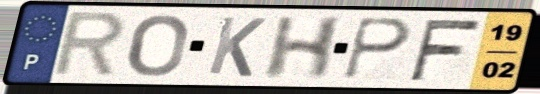F: (406, 17, 485, 82)
H: (260, 15, 348, 82)
K: (204, 14, 269, 79)
O: (125, 12, 190, 79)
P: (341, 15, 414, 82)
R: (47, 9, 130, 80)
